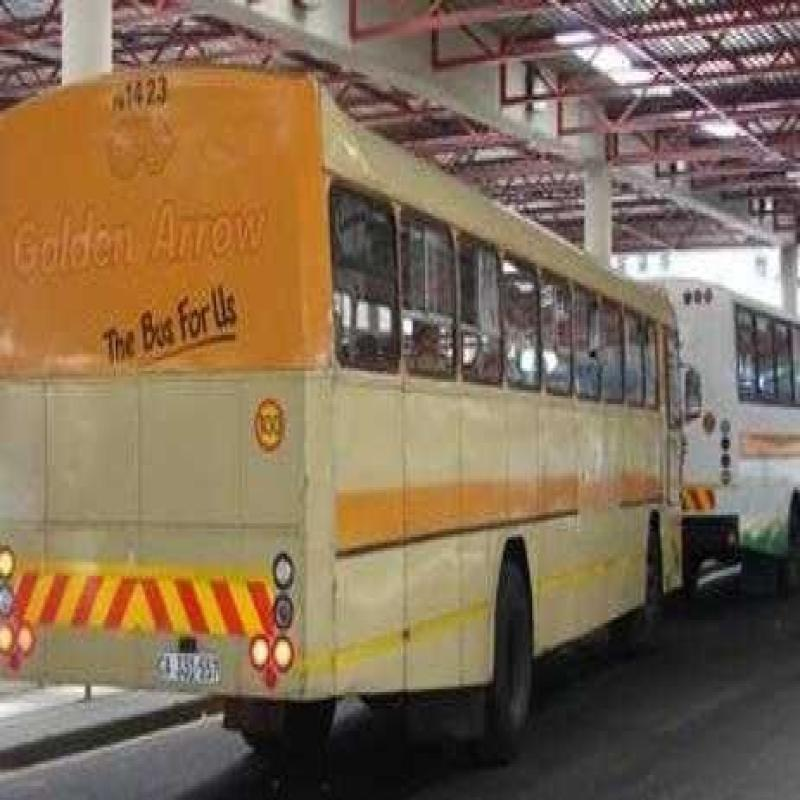bus: (19, 40, 688, 751)
